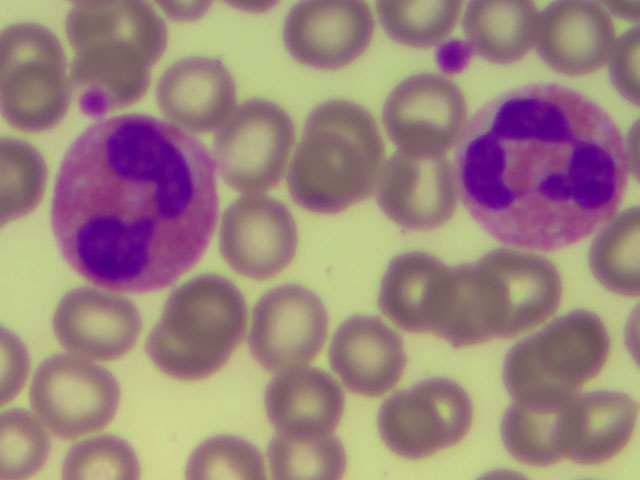Platelets: (83, 89, 108, 118)
RBC: (248, 287, 329, 373), (218, 101, 292, 191), (70, 8, 177, 69), (310, 99, 382, 187), (482, 253, 561, 332), (225, 198, 300, 280), (385, 144, 454, 233), (55, 289, 137, 362), (291, 1, 376, 68), (291, 136, 368, 208), (33, 359, 114, 425), (556, 393, 633, 462), (375, 257, 450, 326), (166, 283, 241, 350), (390, 79, 459, 149), (446, 269, 513, 340), (509, 340, 580, 406), (258, 424, 341, 480), (339, 318, 400, 394), (274, 367, 342, 435), (551, 3, 613, 77), (164, 62, 235, 126), (506, 398, 579, 459), (152, 317, 228, 375), (541, 318, 611, 379), (414, 375, 472, 445), (1, 137, 48, 220), (474, 5, 543, 56), (5, 70, 64, 129), (601, 211, 640, 297), (4, 29, 63, 85), (380, 391, 433, 450), (70, 50, 149, 89), (1, 416, 47, 479), (69, 437, 135, 480), (193, 443, 269, 480), (375, 1, 470, 30), (615, 29, 640, 108), (3, 326, 27, 405), (158, 1, 204, 25), (623, 306, 640, 362), (222, 1, 286, 13), (479, 469, 535, 480), (631, 123, 640, 173), (615, 2, 637, 20)
WBC: (57, 130, 213, 283), (475, 93, 617, 245)
platelets: (436, 36, 470, 75)
